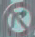Don't turn right: (3, 3, 34, 35)
